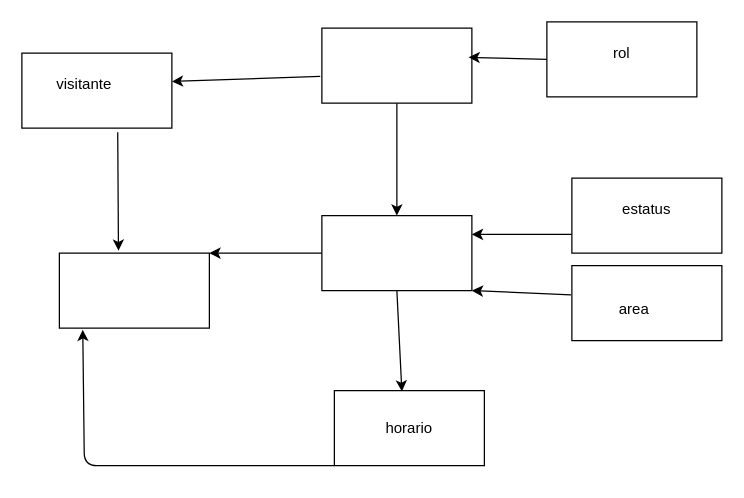
This 744x498 diagram has some shape labels left out. The centre of each missing label's shape, as x and y in pixels:
"citas" goes at (133,290).
"interno" goes at (396,252).
"usuario" goes at (396,65).
